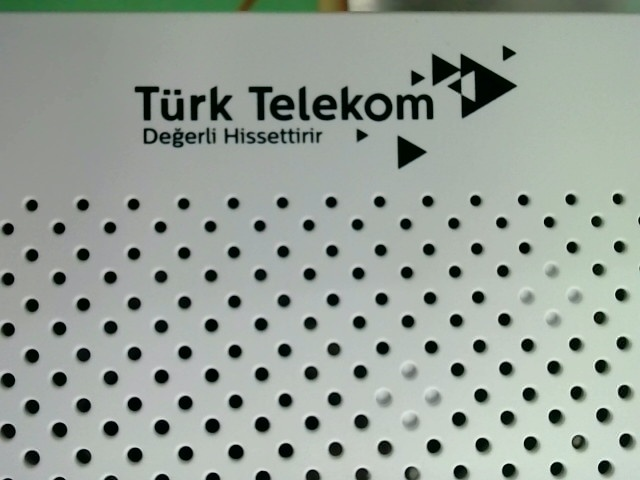AQ_TURKTelekom: (136, 43, 518, 165)
